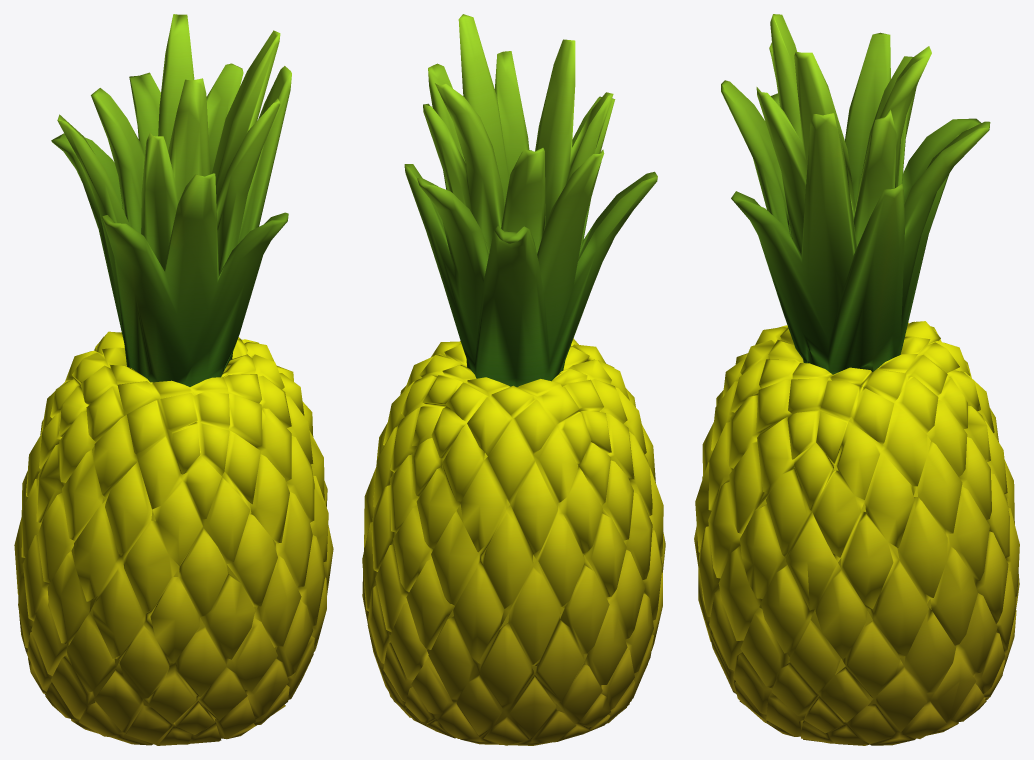
File: pineapple-v2.glb
The picture shows the model from 3 angles, left to right: view 1: azimuth 30°, elevation 25°; view 2: azimuth 150°, elevation 25°; view 3: azimuth 270°, elevation 25°; orthographic projection. The views are drawn at different scales.
Parts seen in each view (by area): view 1: pineapple; view 2: pineapple; view 3: pineapple.
Boxes of the visible parts, bbox=[...] form: pineapple: bbox=[14, 14, 333, 745]; pineapple: bbox=[362, 14, 665, 745]; pineapple: bbox=[694, 14, 1019, 745].
Size of the model in its own units: 4.13 by 9.71 by 4.13.
Materials: 1 (1 with a texture image).
